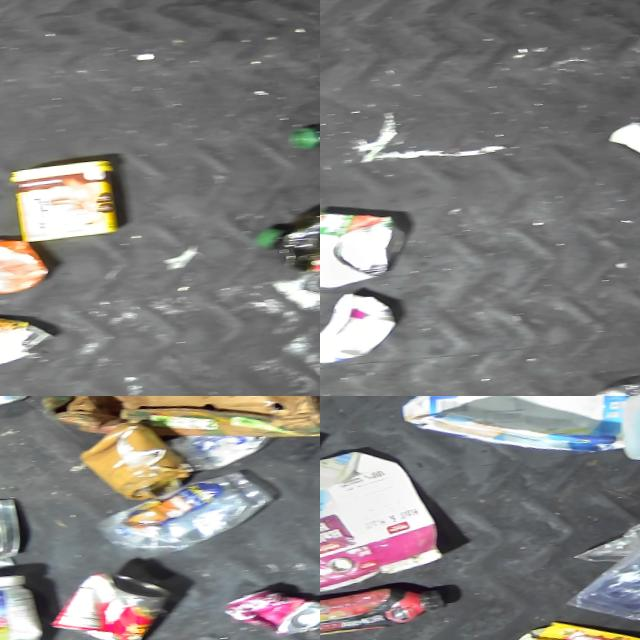can: (73, 420, 193, 509), (40, 568, 168, 640), (320, 207, 406, 298), (216, 590, 320, 640), (0, 496, 19, 563)
non_white_jug: (3, 166, 113, 251)
